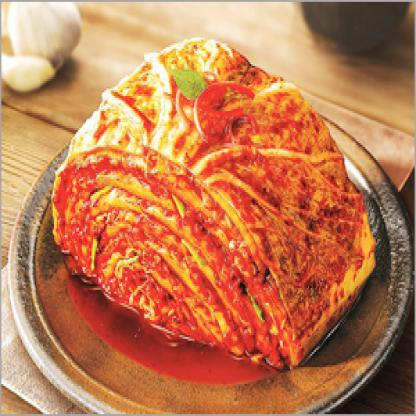kimchi: (46, 34, 388, 364)
